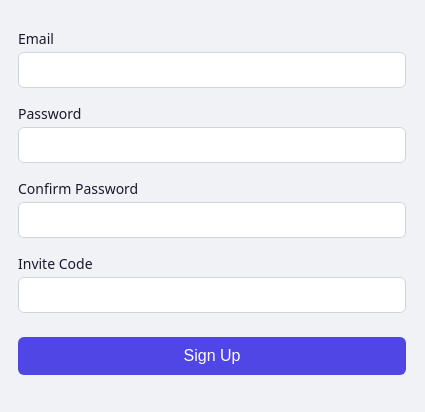
Scenario: SignupForm › shows error when password is less than 8 characters
The width and height of the screenshot is (425, 412).
In the field labelled "Email": (212, 70) [18, 52, 406, 88], type "test@example.com"
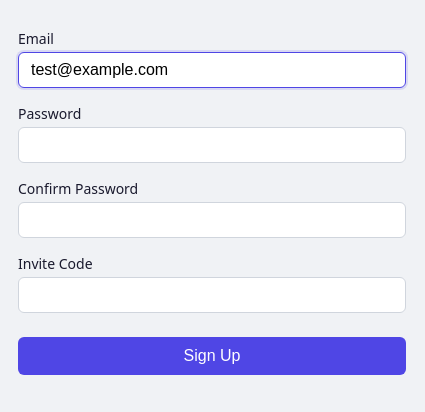
In the password field labelled "Password": (212, 145) [18, 127, 406, 163], type "short"
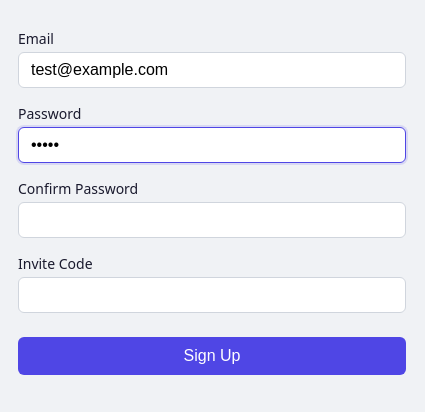
In the password field labelled "Confirm Password": (212, 220) [18, 202, 406, 238], type "short"
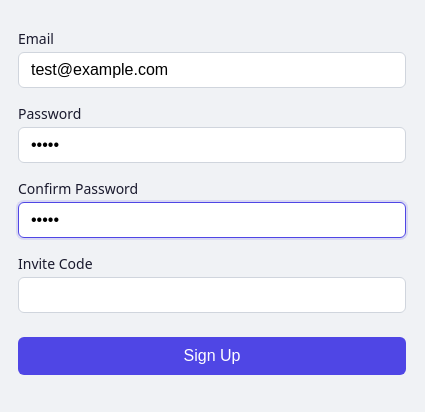
In the field labelled "Invite Code": (212, 295) [18, 277, 406, 313], type "ABC123"
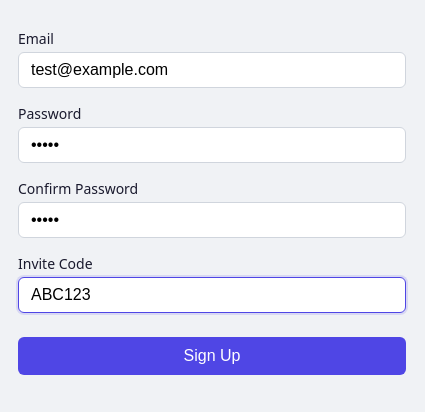
Click the button "Sign Up": (212, 356) [18, 337, 406, 375]
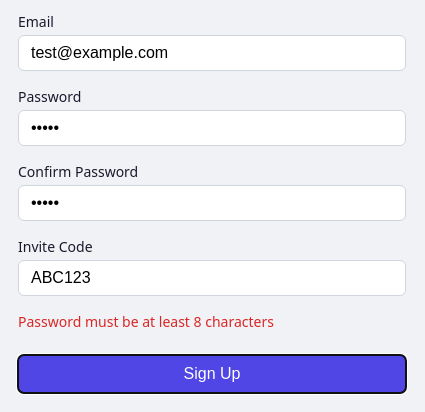
expect the text "Password must be at least 8 characters" is shown: met, box [18, 312, 274, 330]
